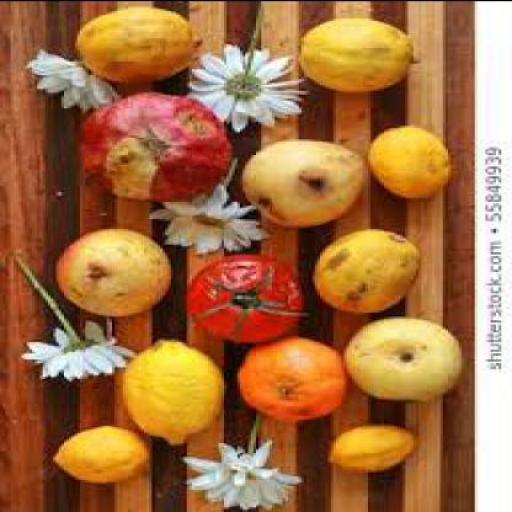biodegradable: (74, 94, 224, 204), (13, 253, 122, 382), (184, 16, 302, 134), (178, 414, 302, 510), (147, 156, 262, 256), (240, 140, 363, 230), (120, 340, 218, 446), (184, 257, 302, 345), (50, 232, 168, 318), (72, 10, 200, 84), (234, 336, 344, 422), (341, 320, 459, 400), (295, 20, 416, 94), (309, 232, 413, 313), (366, 124, 446, 201), (48, 427, 146, 483), (23, 54, 112, 113), (322, 426, 414, 474)
